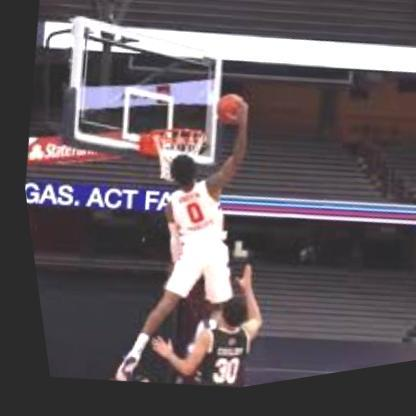basketball: (207, 96, 247, 138)
rim: (145, 123, 206, 157)
